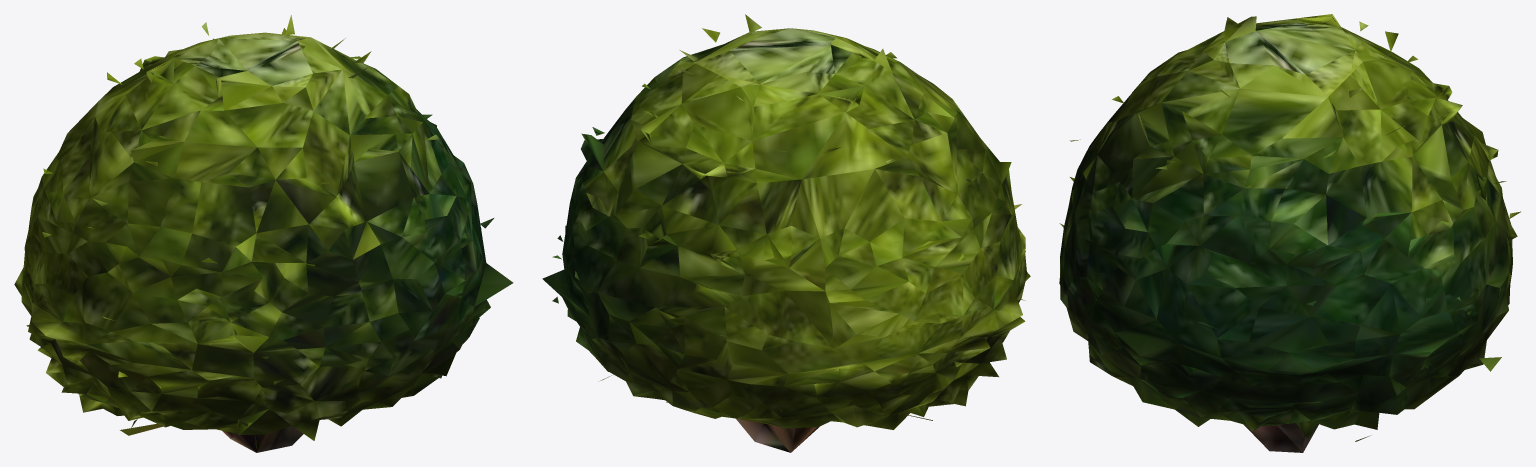
File: bush.glb
The picture shows the model from 3 angles, left to right: view 1: azimuth 30°, elevation 25°; view 2: azimuth 150°, elevation 25°; view 3: azimuth 270°, elevation 25°; orthographic projection.
Visible parts, largest first — view 1: tripo_node_ec11f78a-0f7f-46e2-9497-4d6650aa69cb; view 2: tripo_node_ec11f78a-0f7f-46e2-9497-4d6650aa69cb; view 3: tripo_node_ec11f78a-0f7f-46e2-9497-4d6650aa69cb.
Boxes of the visible parts, <box> form: tripo_node_ec11f78a-0f7f-46e2-9497-4d6650aa69cb: <box>14,15,513,452</box>; tripo_node_ec11f78a-0f7f-46e2-9497-4d6650aa69cb: <box>542,14,1030,452</box>; tripo_node_ec11f78a-0f7f-46e2-9497-4d6650aa69cb: <box>1059,14,1520,452</box>.
Size of the model in its own units: 1.16 by 1 by 1.06.
1 material, 1 textured.
